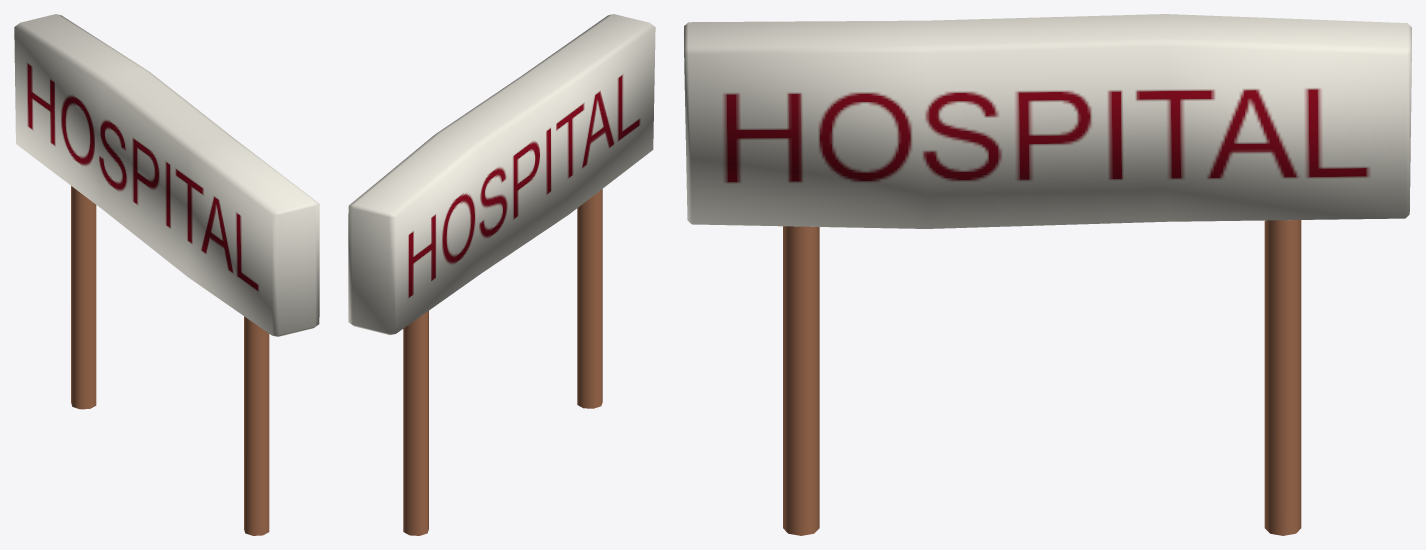
The model's file is HospitalSign.glb.
3 views of the same model, side by side, from view 1: azimuth 30°, elevation 25°; view 2: azimuth 150°, elevation 25°; view 3: azimuth 270°, elevation 25° (orthographic). The views are drawn at different scales.
Parts seen in each view (by area): view 1: HospitalSign; view 2: HospitalSign; view 3: HospitalSign.
Boxes of the visible parts, x1,y1,x2,y2 form: HospitalSign: (14,14,319,535); HospitalSign: (348,14,655,535); HospitalSign: (684,14,1411,535).
Size of the model in its own units: 0.1771 by 1.25 by 1.65.
Materials: 1 (1 with a texture image).
